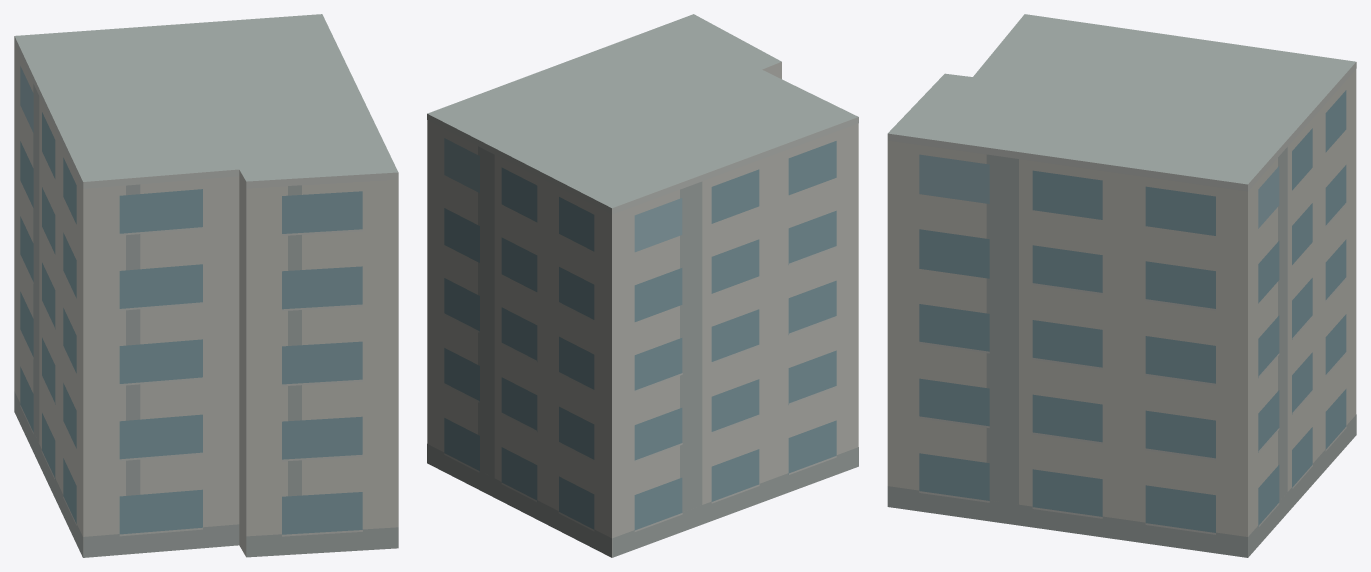
Rendered from survey-upis-32854262.glb.
3 renders of one model, left to right at view 1: azimuth 30°, elevation 25°; view 2: azimuth 150°, elevation 25°; view 3: azimuth 270°, elevation 25°, orthographic. The views are drawn at different scales.
Visible parts, largest first — view 1: survey-upis-32854262.tmp; view 2: survey-upis-32854262.tmp; view 3: survey-upis-32854262.tmp.
Boxes of the visible parts, box(x1,y1,x2,y2) form: survey-upis-32854262.tmp: box(14, 14, 398, 557); survey-upis-32854262.tmp: box(427, 14, 858, 557); survey-upis-32854262.tmp: box(887, 14, 1356, 557).
Bounding box in the file's own units: 12.84 × 13.1 × 14.92.
